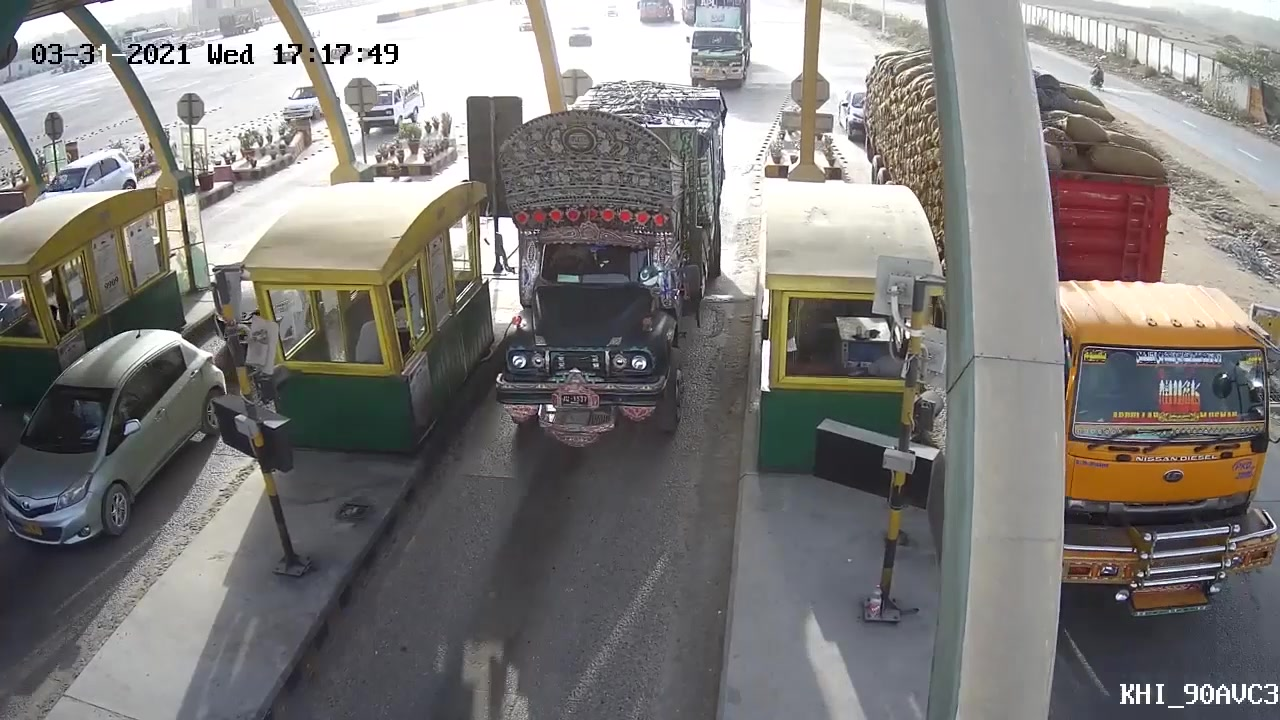F5: (464, 74, 745, 465)
